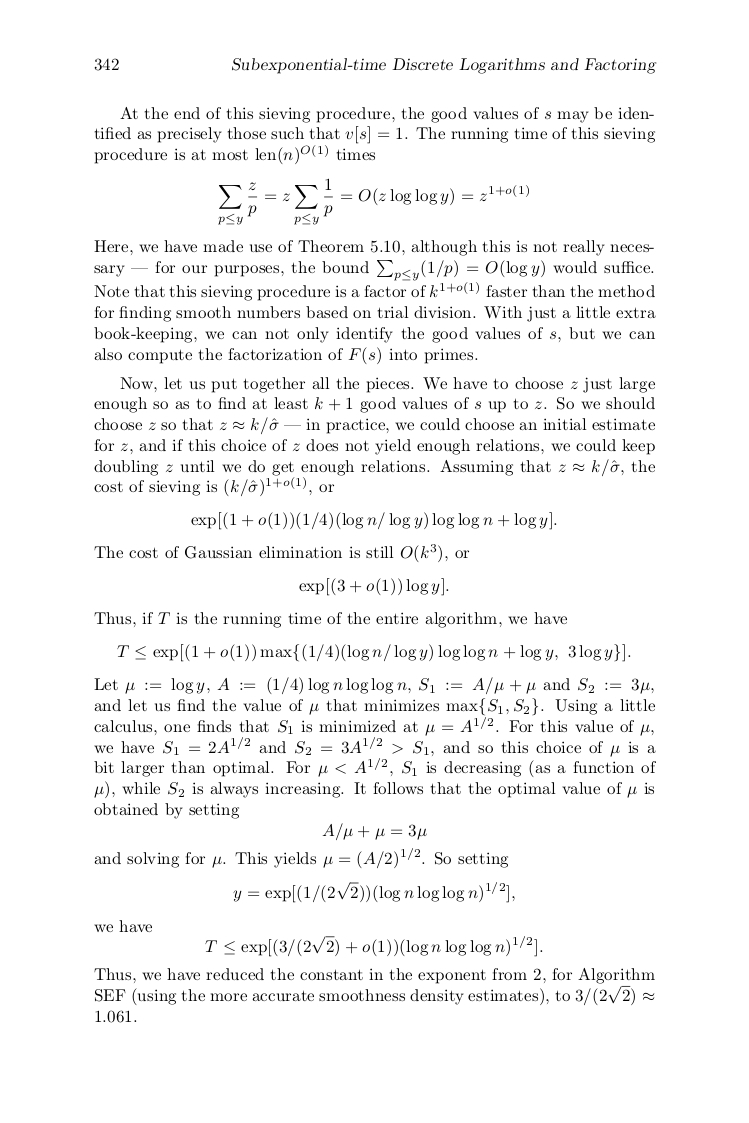formula: (218, 177, 528, 225), (205, 935, 542, 957), (191, 511, 556, 530), (233, 881, 514, 903), (299, 577, 448, 596), (322, 822, 426, 841)
